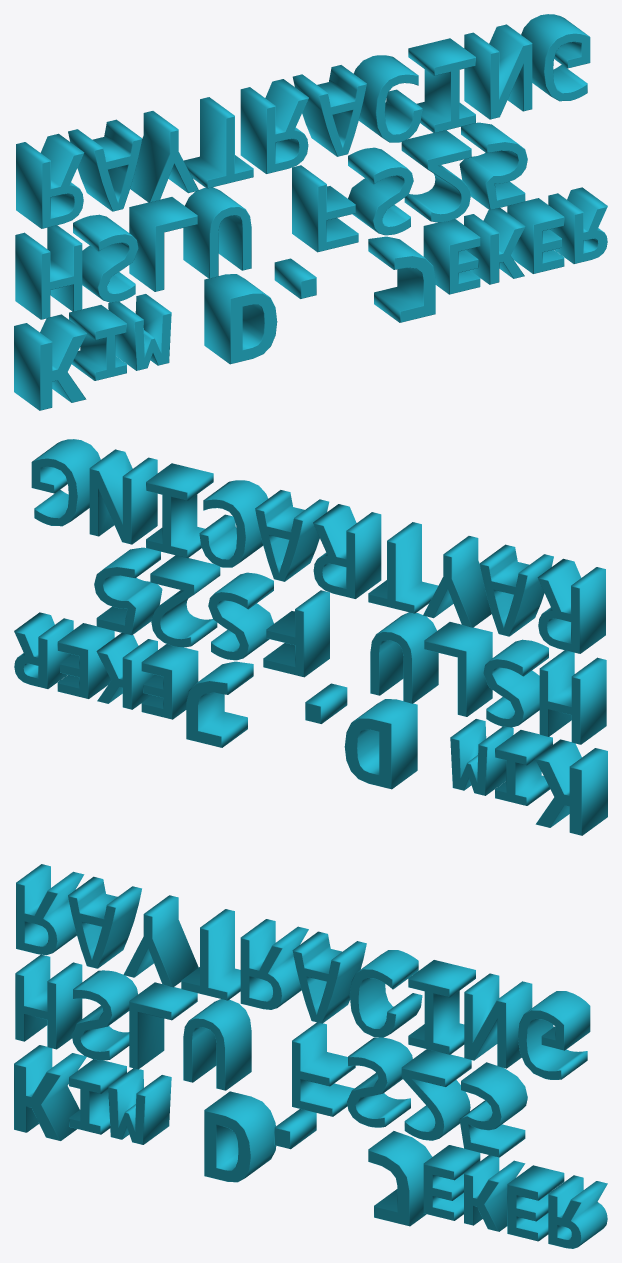
File: text_lowres.obj
3 views of the same model, one above another, from view 1: azimuth 30°, elevation 25°; view 2: azimuth 150°, elevation 25°; view 3: azimuth 330°, elevation 25° (orthographic).
Visible parts, largest first — view 1: h_Material.001; view 2: h_Material.001; view 3: h_Material.001.
Part boxes in pixels (bbox=[...]): h_Material.001: bbox=[14, 14, 607, 410]; h_Material.001: bbox=[14, 439, 607, 835]; h_Material.001: bbox=[14, 864, 607, 1248].
Bounding box in the file's own units: 0.6992 × 0.292 × 0.0559.
